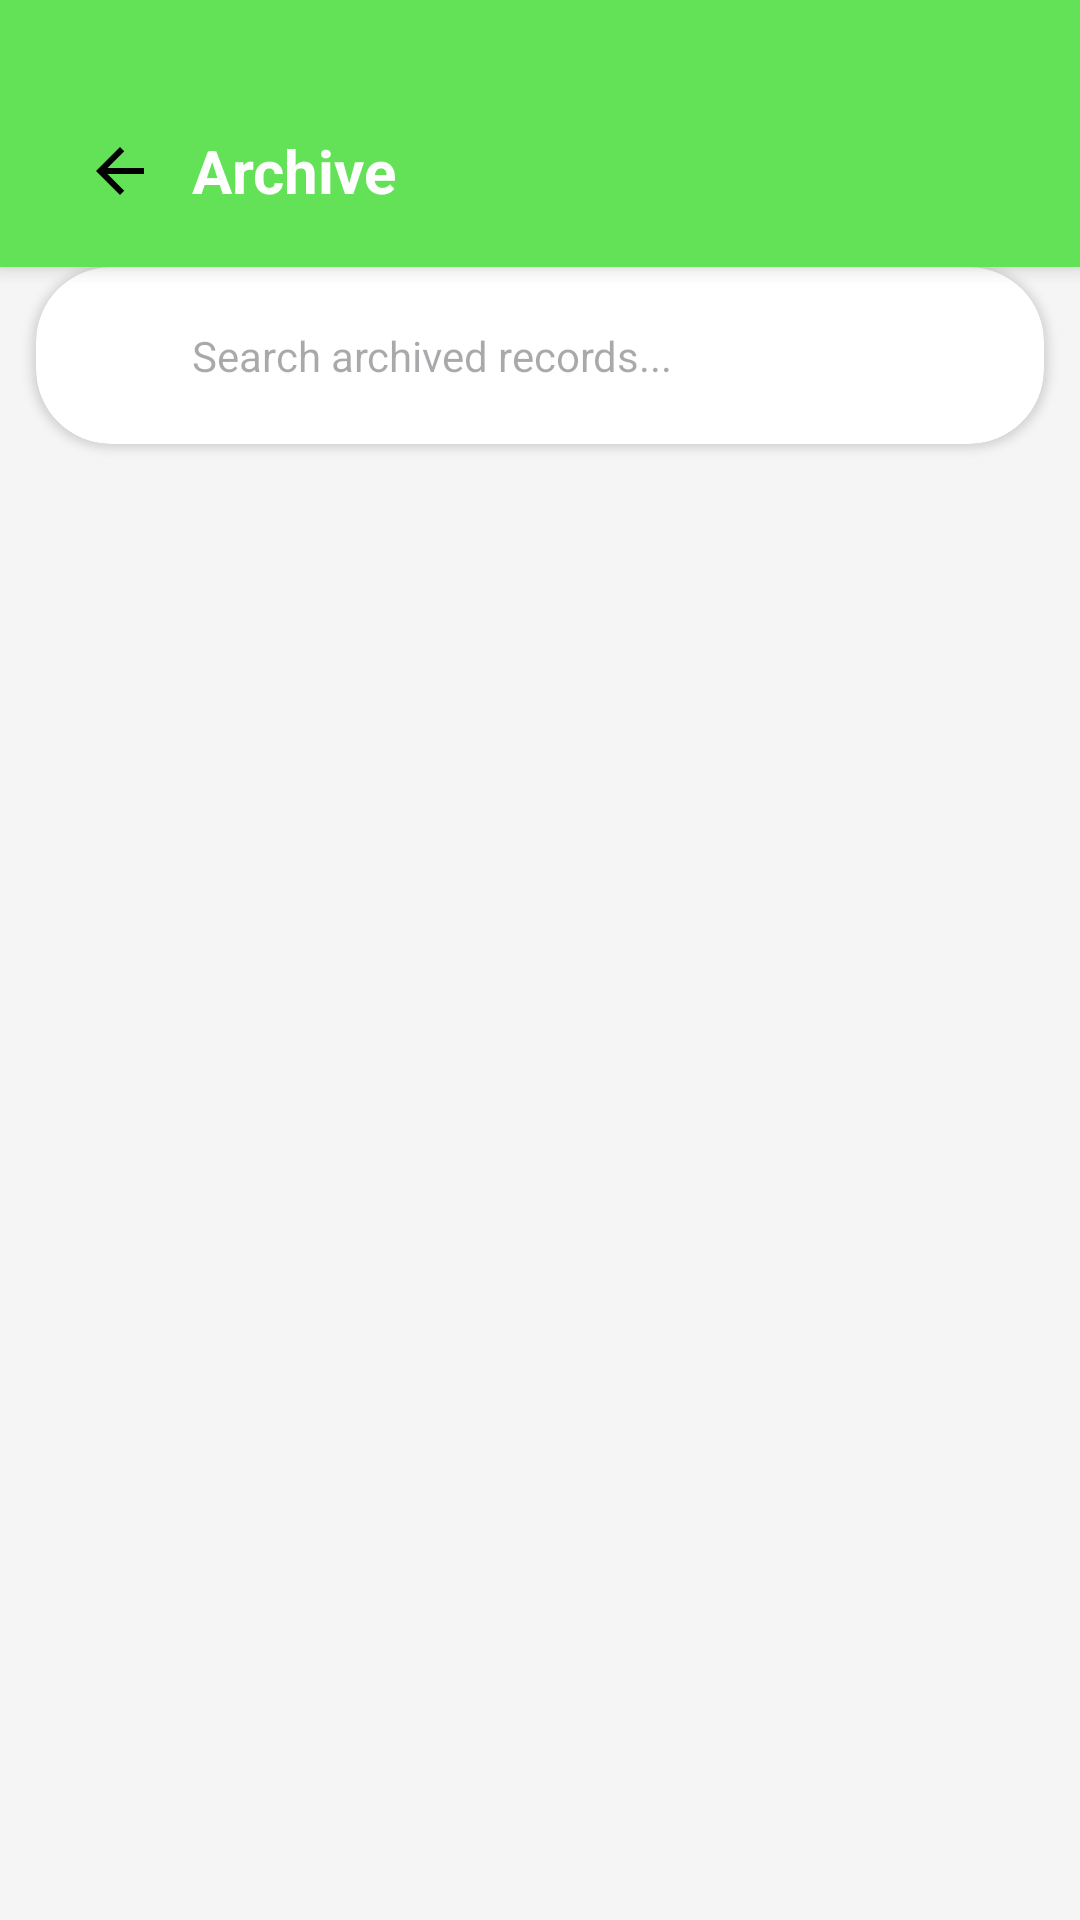

Where icons sit on this 1080w x 1920h app screen, as (x1, y1, x2, y2):
Back: (96, 147, 144, 195)
